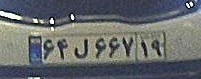character: (72, 37, 92, 61), (56, 37, 72, 62), (121, 35, 136, 61), (91, 36, 107, 60), (43, 37, 57, 63), (107, 35, 121, 61), (149, 36, 165, 58), (139, 37, 149, 60)
